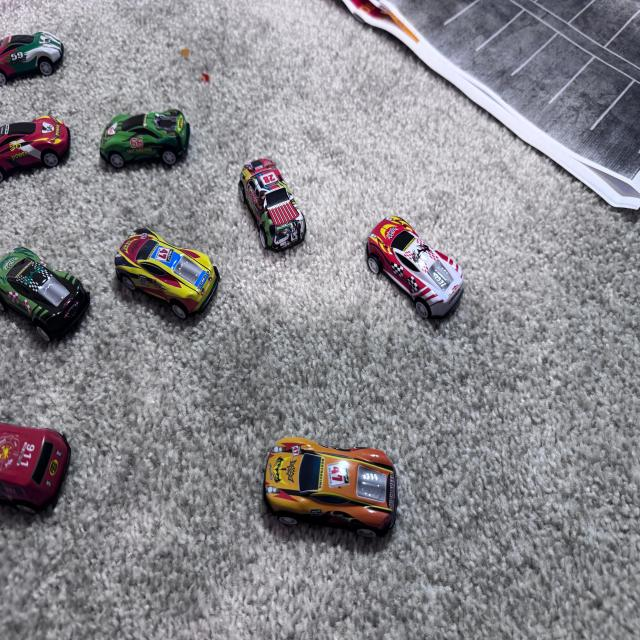car: (364, 215, 526, 380), (269, 430, 407, 547), (359, 212, 469, 326), (0, 244, 95, 375), (0, 418, 101, 522), (118, 230, 218, 325), (102, 90, 208, 176), (232, 152, 308, 270), (0, 114, 82, 190), (0, 15, 72, 83)
